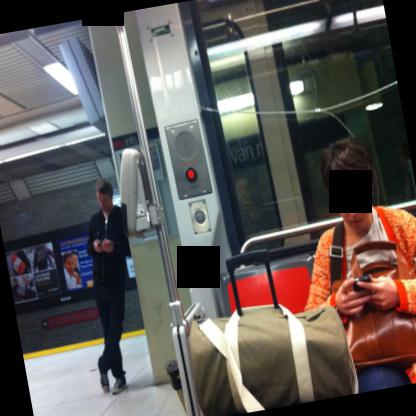backpack: (329, 220, 344, 293)
handbag: (190, 303, 358, 416), (344, 243, 416, 370), (330, 220, 344, 292)
